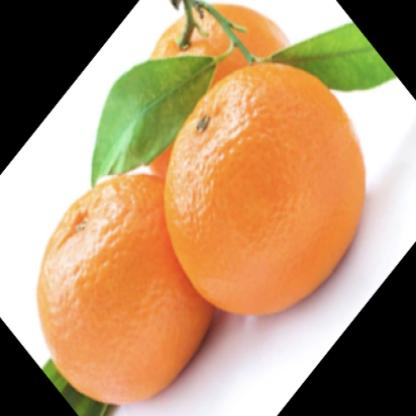fresh: (36, 1, 367, 408)
